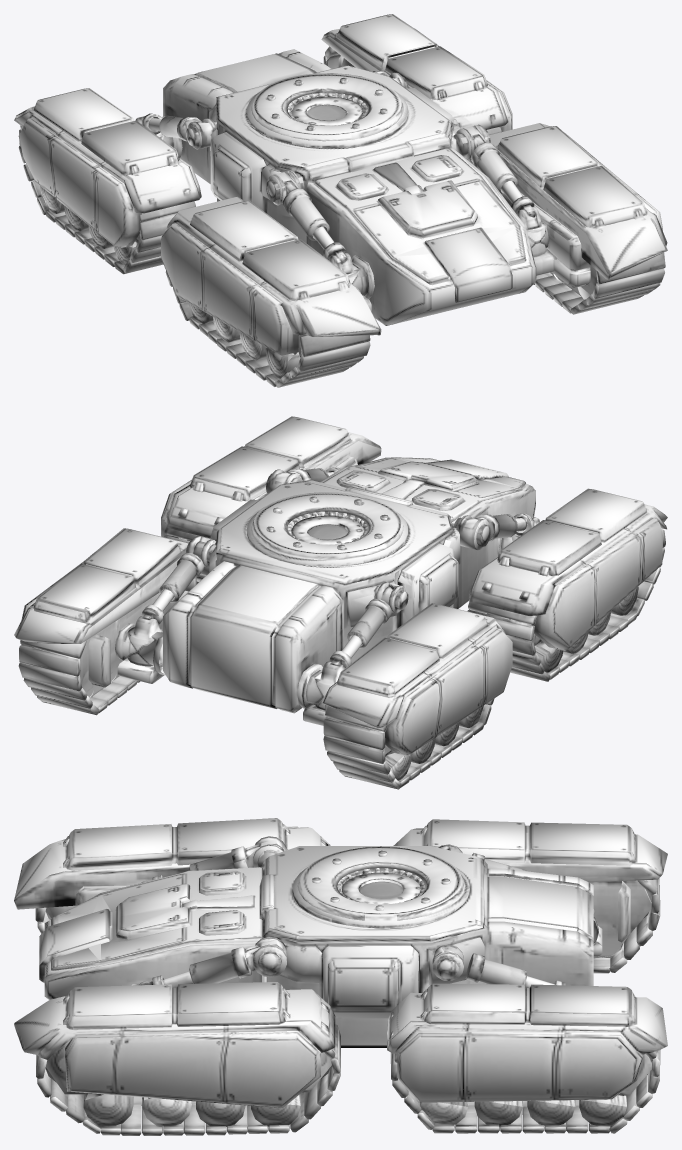
The model's file is body.glb.
3 views of the same model, one above another, from view 1: azimuth 30°, elevation 25°; view 2: azimuth 150°, elevation 25°; view 3: azimuth 270°, elevation 25° (orthographic). The views are drawn at different scales.
Visible parts, largest first — view 1: body; view 2: body; view 3: body.
Boxes of the visible parts, left/top/right/bottom form: body: left=14, top=14, right=667, bottom=387; body: left=14, top=416, right=667, bottom=789; body: left=14, top=818, right=667, bottom=1135.
Size of the model in its own units: 4.04 by 1.43 by 5.29.
Materials: 3 (3 with a texture image).
